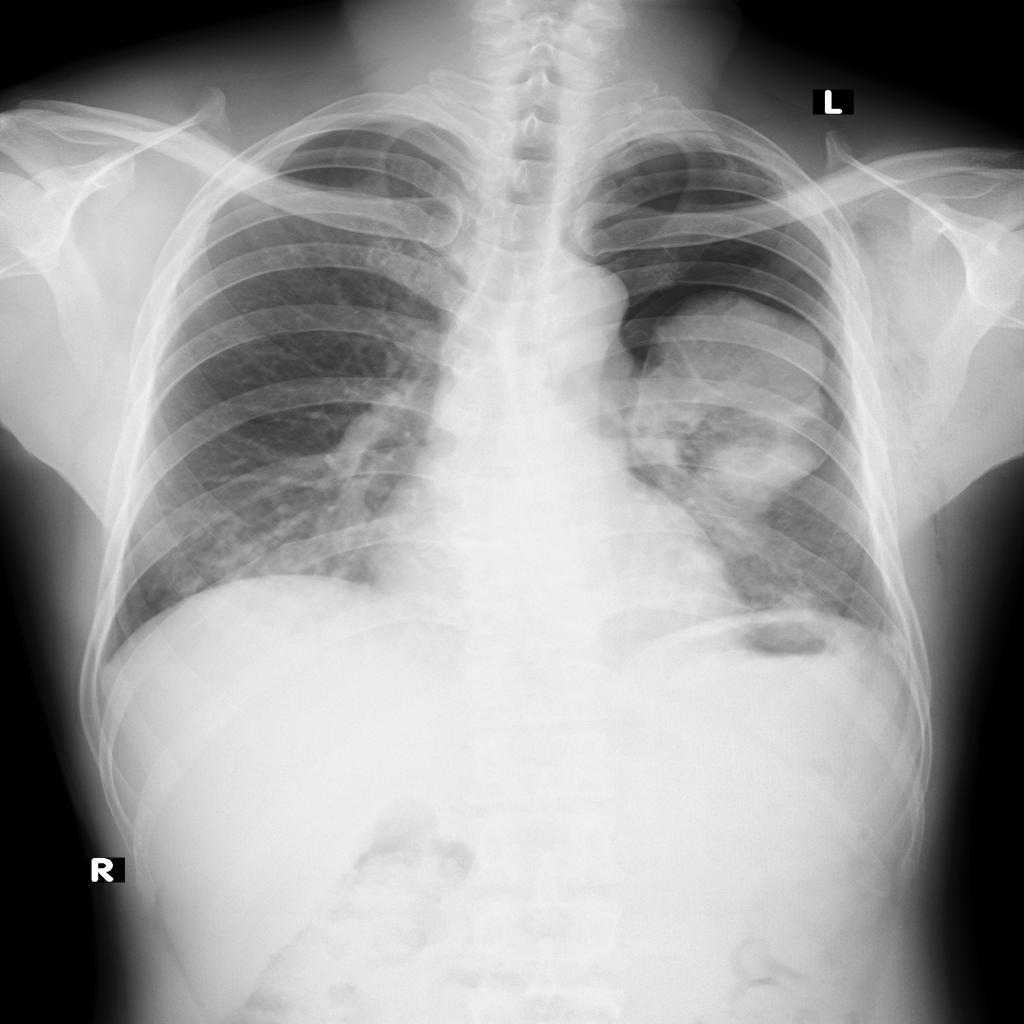Nodule: (634, 292, 825, 564)
